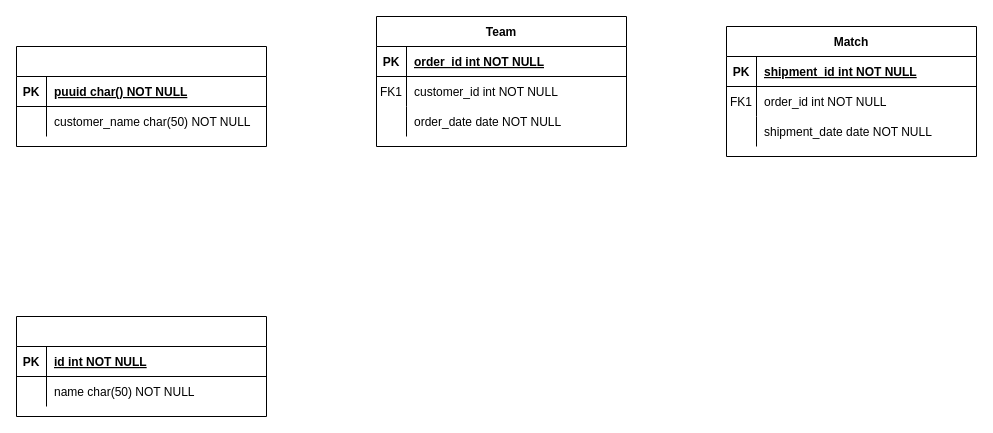
This 993x433 diagram has some shape labels left out. Each missing label, with the box of its shape:
Champion: (16, 316, 266, 416)
User: (16, 46, 266, 146)
